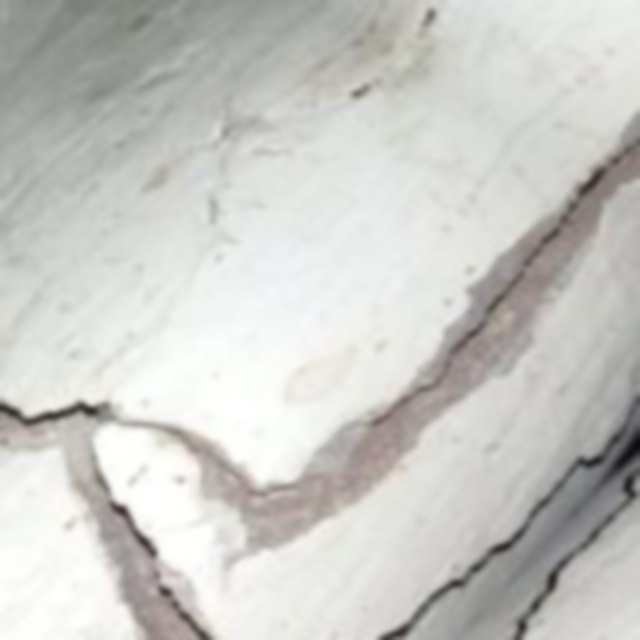SurfaceCrack: (356, 72, 640, 438), (322, 380, 640, 640), (16, 354, 264, 640)
